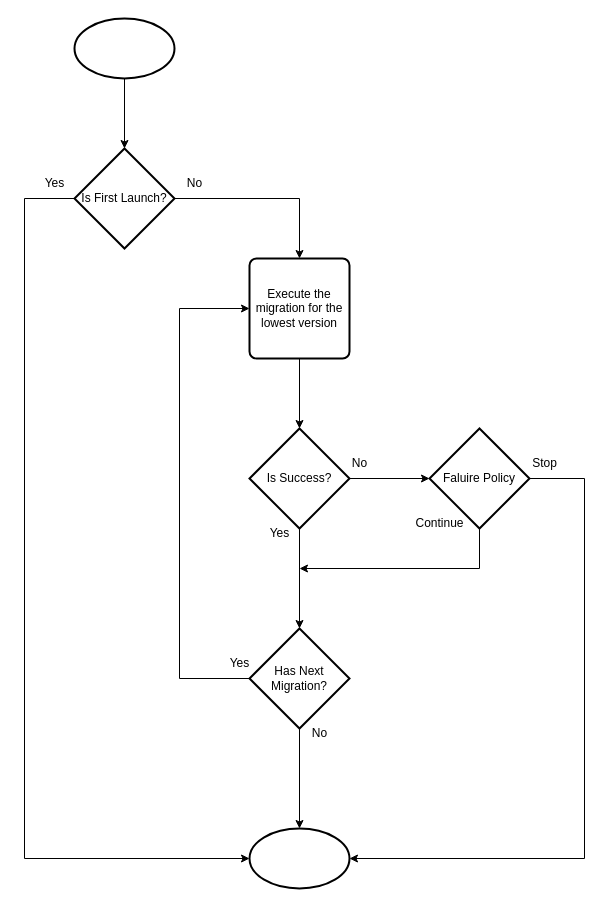
Some shapes in this 610 by 906 pixel diagram are drawn without their labels. Here are the shapes that lost their labels. From the top down, the centre of each, then its label:
At [124,48]: "Start".
At [299,858]: "End".
